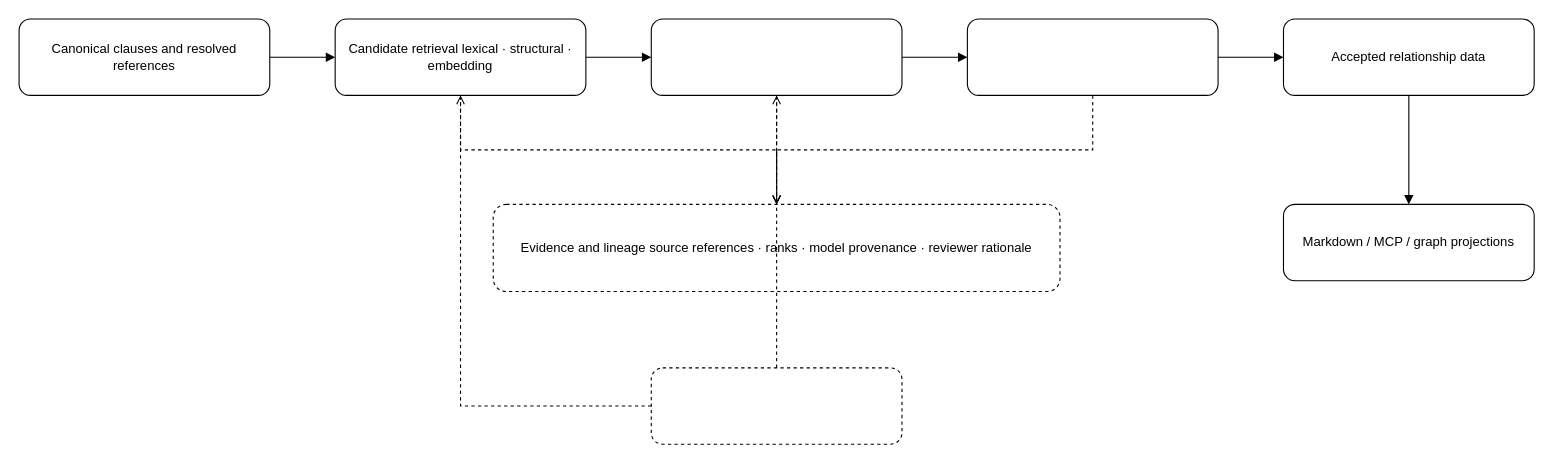
Some shapes in this 1553 by 463 pixel diagram are drawn without their labels. Here are the shapes that lost their labels. From the top down, the box of each, then its label:
(650, 18, 902, 95): Relationship assessment rules · models · LLM
(966, 18, 1218, 95): Review and adjudication
(650, 367, 902, 444): Evaluation corpora and qualification
